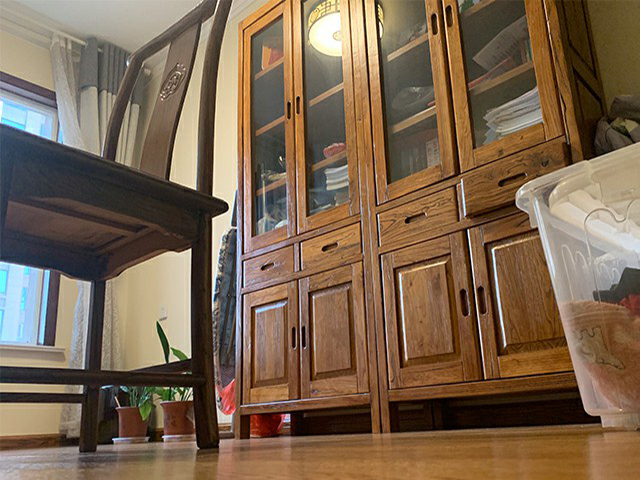cabinet: (230, 107, 575, 438)
curtain: (49, 32, 152, 437)
stool: (1, 1, 232, 454)
